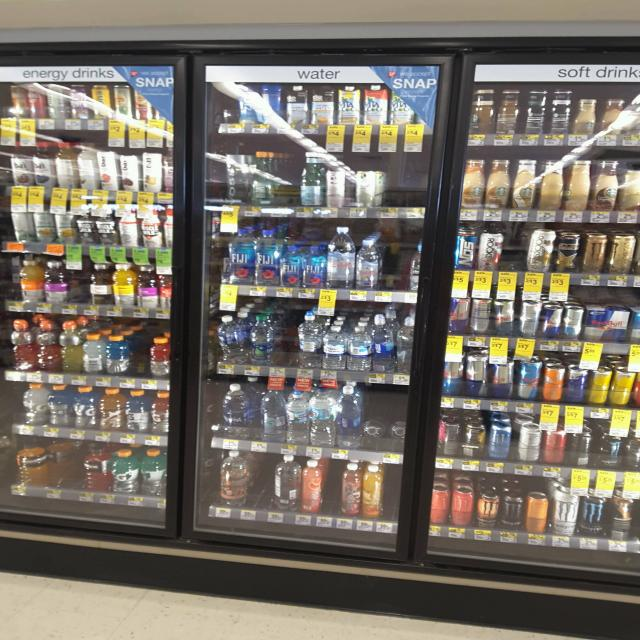empty_space: (0, 0, 10, 40), (0, 0, 11, 36), (0, 0, 12, 32), (0, 0, 10, 37), (0, 0, 9, 40), (0, 0, 9, 39), (0, 0, 9, 37), (0, 0, 10, 33), (0, 0, 8, 41), (0, 0, 10, 32), (0, 0, 9, 35), (0, 0, 9, 34), (0, 0, 8, 38), (0, 0, 10, 30), (0, 0, 9, 33), (0, 0, 8, 37), (0, 0, 14, 21), (0, 0, 10, 29), (0, 0, 8, 36), (0, 0, 9, 32), (0, 0, 8, 35), (0, 0, 9, 31), (0, 0, 7, 39), (0, 0, 8, 34), (0, 0, 9, 30), (0, 0, 10, 27), (0, 0, 7, 38), (0, 0, 8, 33), (0, 0, 9, 29), (0, 0, 8, 32), (0, 0, 7, 36), (0, 0, 8, 31), (0, 0, 7, 35), (0, 0, 9, 27), (0, 0, 8, 30), (0, 0, 8, 29), (0, 0, 7, 33), (0, 0, 9, 25), (0, 0, 7, 32), (0, 0, 8, 28), (0, 0, 6, 37), (0, 0, 7, 31), (0, 0, 6, 36), (0, 0, 7, 30), (0, 0, 8, 26), (0, 0, 7, 29), (0, 0, 8, 25), (0, 0, 7, 28), (0, 0, 7, 27), (0, 0, 6, 31), (0, 0, 8, 23), (0, 0, 7, 26), (0, 0, 5, 35), (0, 0, 7, 25), (0, 0, 6, 29), (0, 0, 7, 24), (0, 0, 6, 28), (0, 0, 6, 27), (0, 0, 7, 22), (0, 0, 6, 25), (0, 0, 5, 29), (0, 0, 5, 26)
